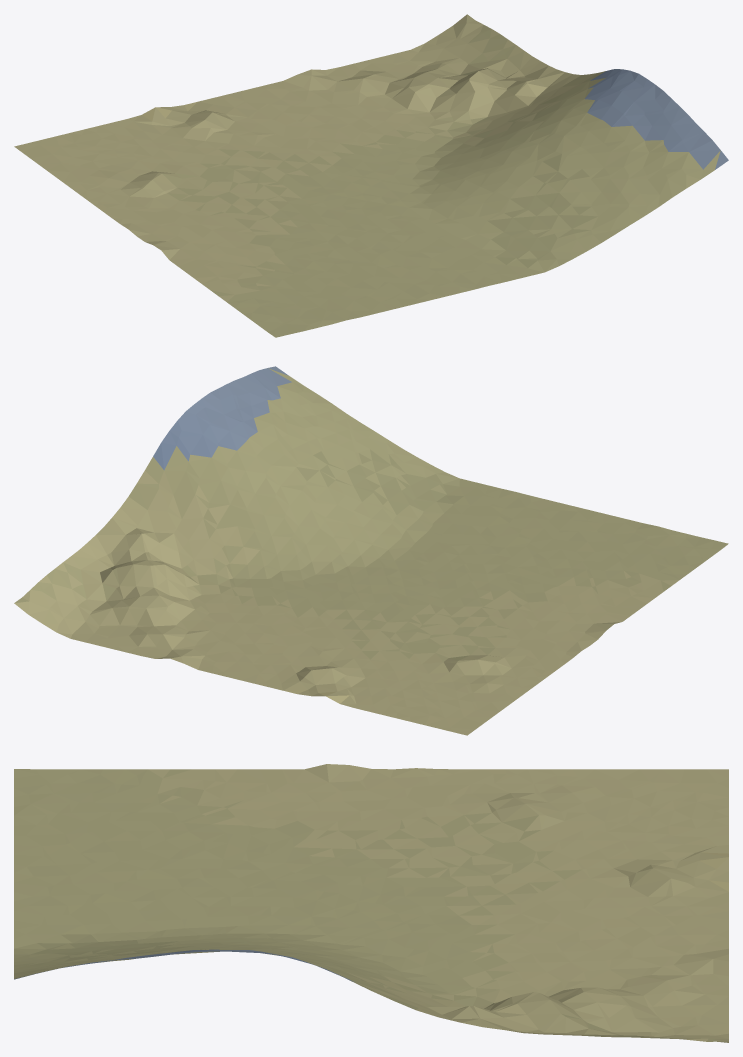
File: Ground_4_-4.glb
The picture shows the model from 3 angles, top to bottom: view 1: azimuth 30°, elevation 25°; view 2: azimuth 150°, elevation 25°; view 3: azimuth 270°, elevation 25°; orthographic projection. The views are drawn at different scales.
Visible parts, largest first — view 1: Ground_4_-4; view 2: Ground_4_-4; view 3: Ground_4_-4.
Boxes of the visible parts, left/top/right/bottom form: Ground_4_-4: left=14, top=14, right=728, bottom=337; Ground_4_-4: left=14, top=366, right=728, bottom=735; Ground_4_-4: left=14, top=764, right=728, bottom=1042.
Size of the model in its own units: 768 by 144 by 768.
